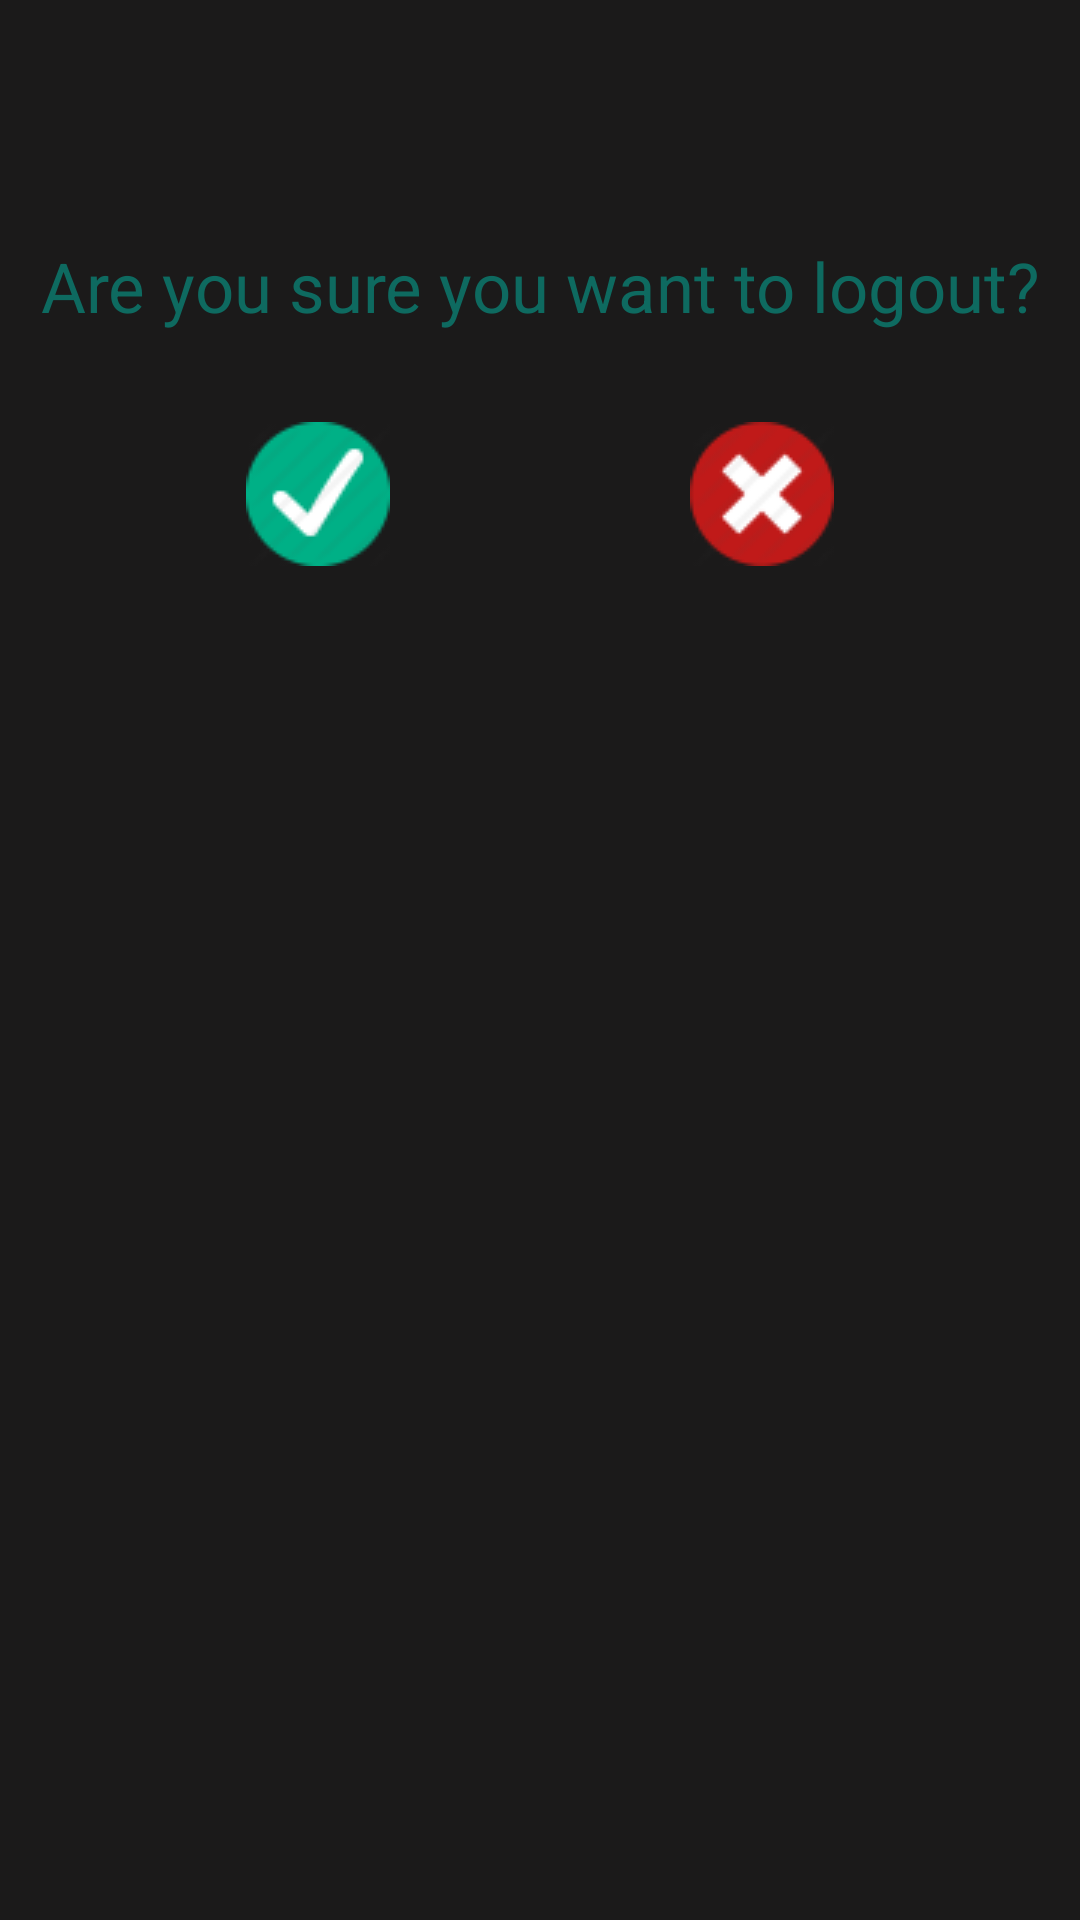

Icons on this 1080 x 1920 Android screen, each with the point to tap as point (x, y):
cancel: point (762, 494)
yes: point (318, 494)
